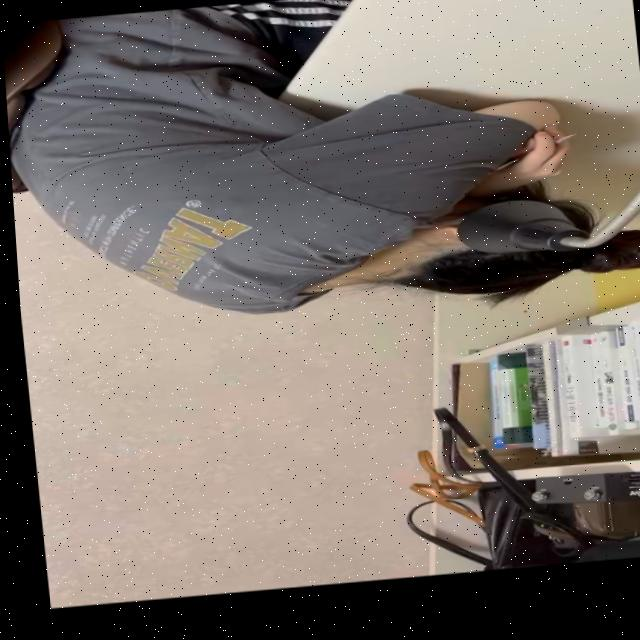sleeping-person: (1, 0, 640, 367)
